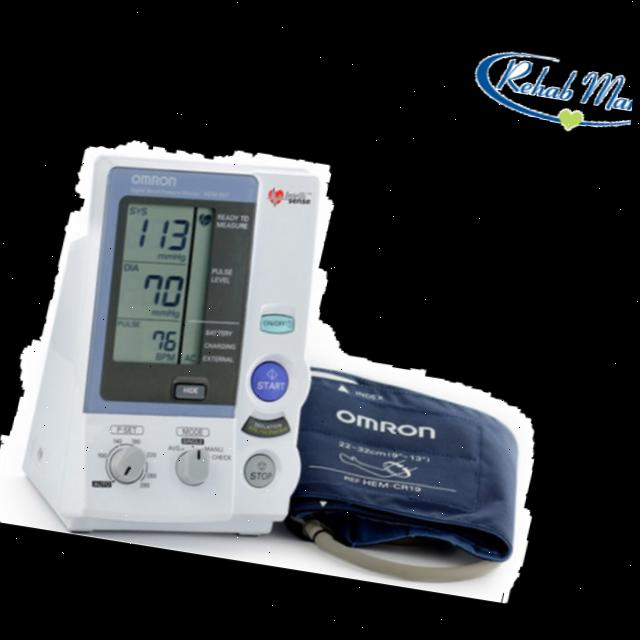dia: (139, 266, 193, 317)
pul: (150, 320, 194, 362)
ssd: (118, 201, 218, 369)
sys: (135, 209, 197, 259)
